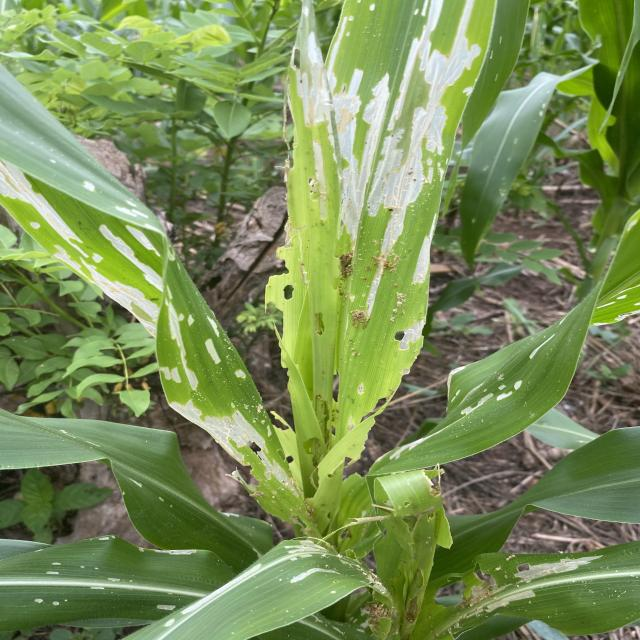fall-armyworm-egg: (361, 602, 396, 634), (456, 585, 498, 611)
fall-armyworm-frass: (358, 254, 404, 282), (330, 252, 356, 282), (347, 304, 373, 334), (386, 292, 408, 324)
fall-armyworm-larval-damage: (2, 138, 245, 432), (253, 0, 515, 247), (451, 198, 639, 462), (232, 136, 309, 368), (177, 531, 397, 607), (158, 387, 296, 489), (497, 540, 640, 636), (369, 470, 460, 594), (279, 374, 376, 484), (361, 313, 442, 424)
